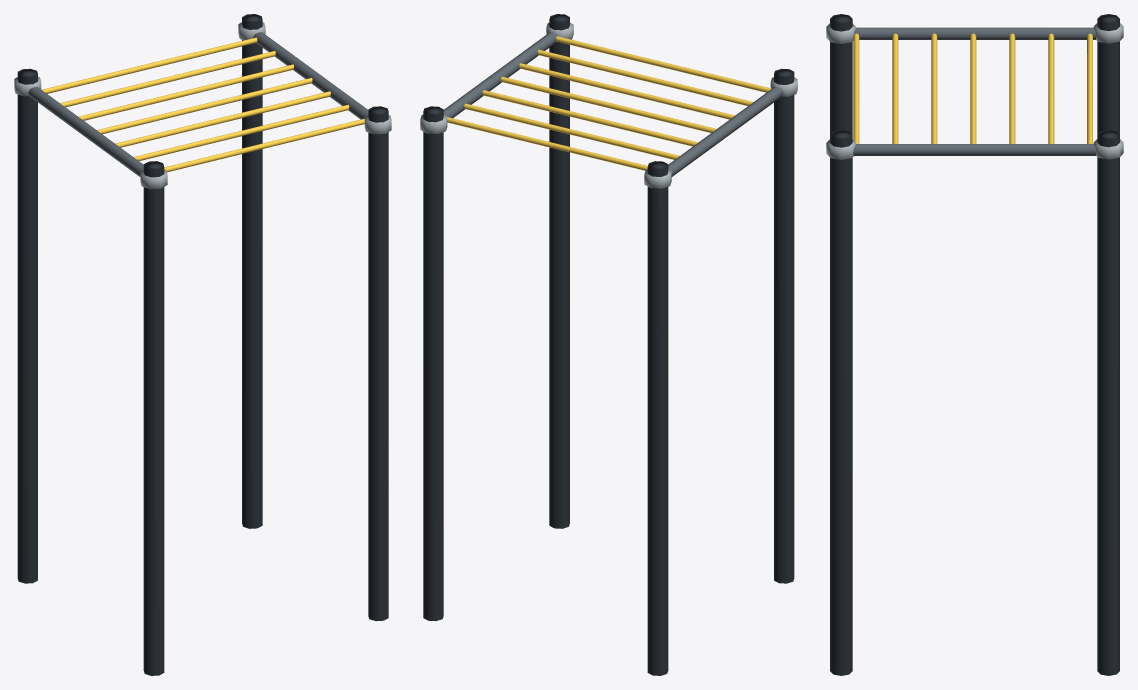
The model's file is MonkeyBar.fbx.
3 views of the same model, side by side, from view 1: azimuth 30°, elevation 25°; view 2: azimuth 150°, elevation 25°; view 3: azimuth 270°, elevation 25° (orthographic). The views are drawn at different scales.
Visible parts, largest first — view 1: MonkeyBar; view 2: MonkeyBar; view 3: MonkeyBar.
Part boxes in pixels (<box>): MonkeyBar: <box>14,14,391,675</box>; MonkeyBar: <box>420,14,797,675</box>; MonkeyBar: <box>826,14,1123,675</box>.
Bounding box in the file's own units: 703 × 1368 × 687.
1 material, 1 textured.
